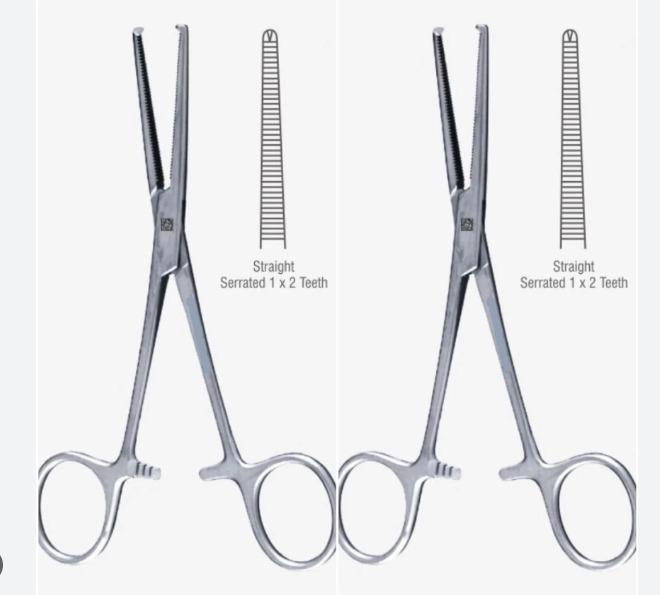Kocher Forceps: (32, 25, 340, 568)
